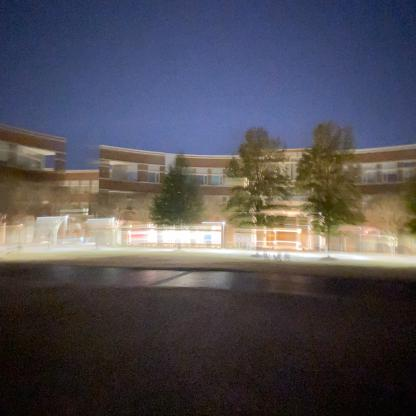eb2: (97, 136, 416, 254)
